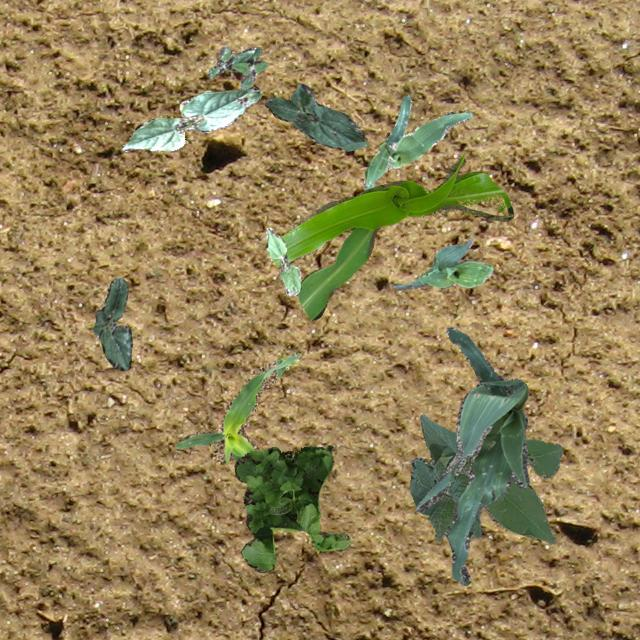crop: (270, 152, 512, 318), (414, 326, 528, 584), (408, 413, 562, 542), (173, 351, 300, 464), (362, 94, 471, 190), (120, 86, 260, 150), (264, 82, 368, 150), (392, 238, 492, 290), (92, 276, 130, 370), (264, 227, 300, 294)
weed: (234, 444, 352, 572), (206, 46, 266, 90)
